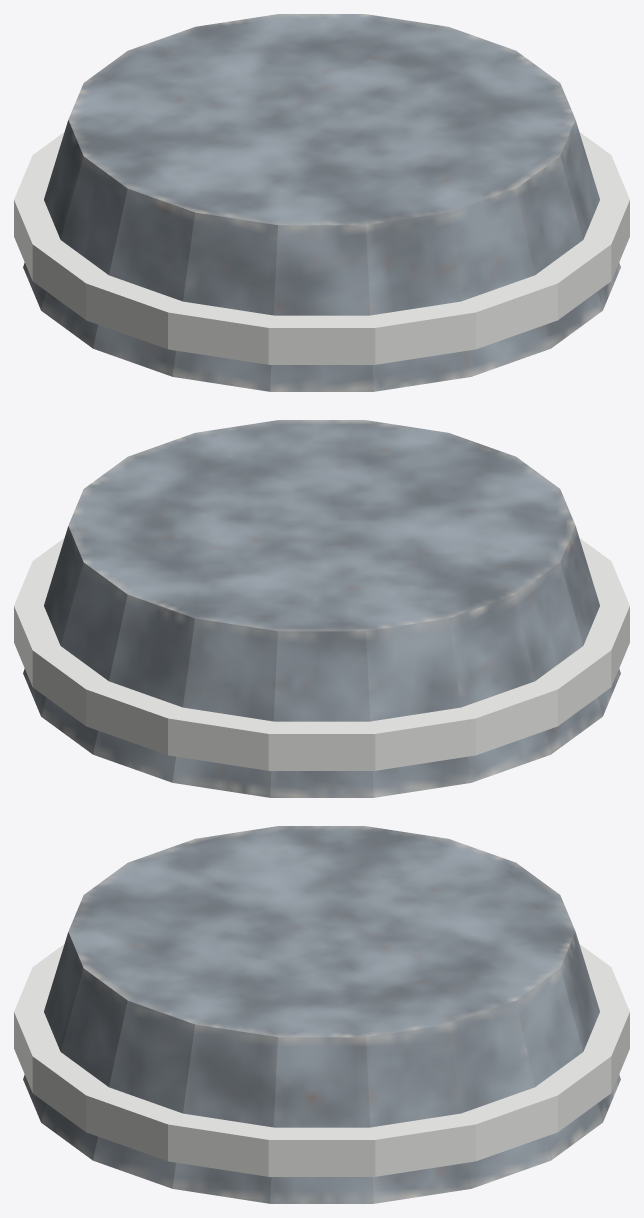
Rendered from chassis_spark.glb.
3 renders of one model, top to bottom at view 1: azimuth 30°, elevation 25°; view 2: azimuth 150°, elevation 25°; view 3: azimuth 270°, elevation 25°, orthographic.
Parts seen in each view (by area): view 1: chassis_spark, ring; view 2: chassis_spark, ring; view 3: chassis_spark, ring.
Part boxes in pixels (x1=…): chassis_spark: x1=23, y1=14, x2=620, y2=391; ring: x1=14, y1=132, x2=629, y2=364; chassis_spark: x1=23, y1=420, x2=620, y2=797; ring: x1=14, y1=538, x2=629, y2=770; chassis_spark: x1=23, y1=826, x2=620, y2=1203; ring: x1=14, y1=944, x2=629, y2=1176.
Bounding box in the file's own units: 1.34 × 0.36 × 1.36.
2 materials, 1 textured.
